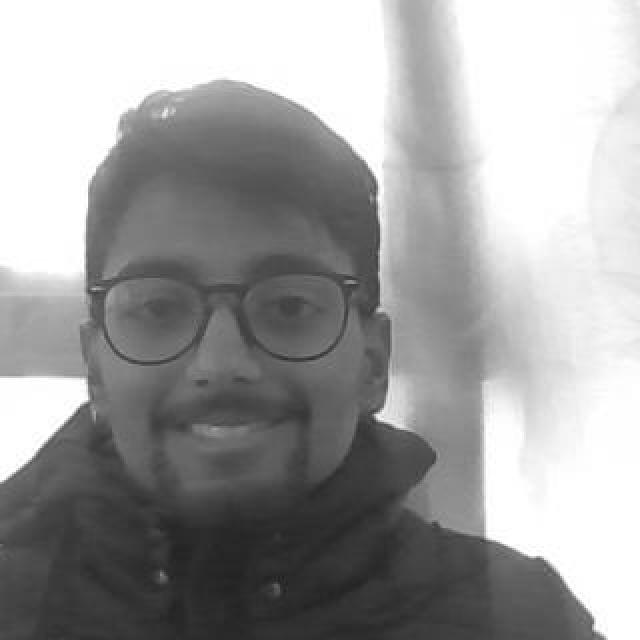Focused: (93, 186, 363, 510)
